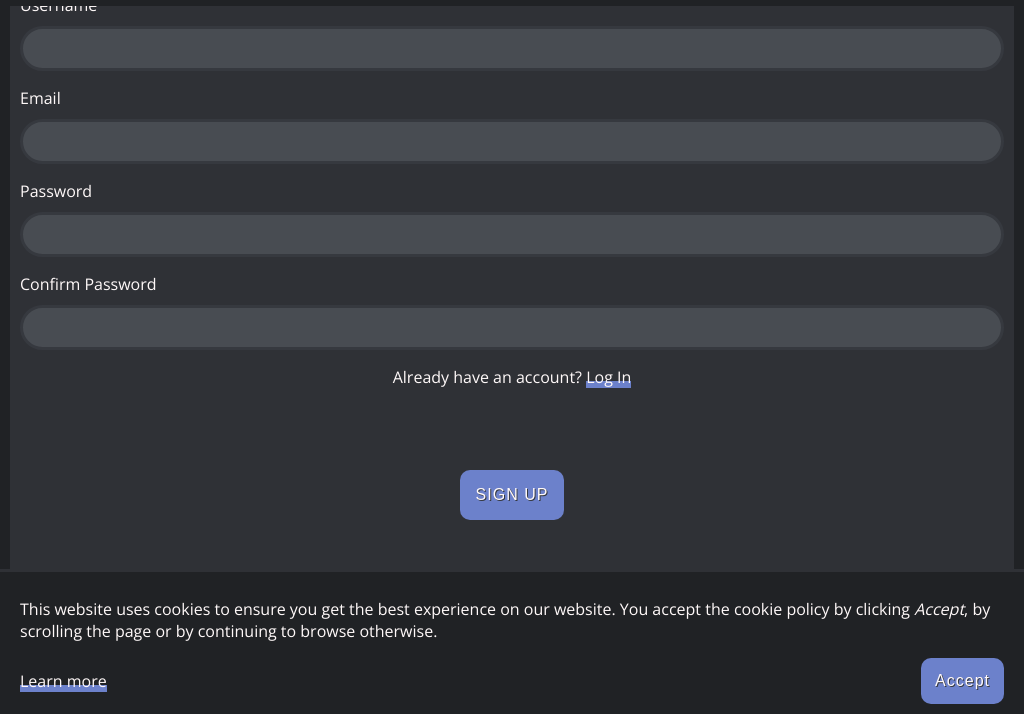
Test: /signup › requires username/email/password/confirm password/recaptcha
The image size is (1024, 714).
(page scrolled)
Click the button "Sign Up": (513, 495) [460,470,565,520]
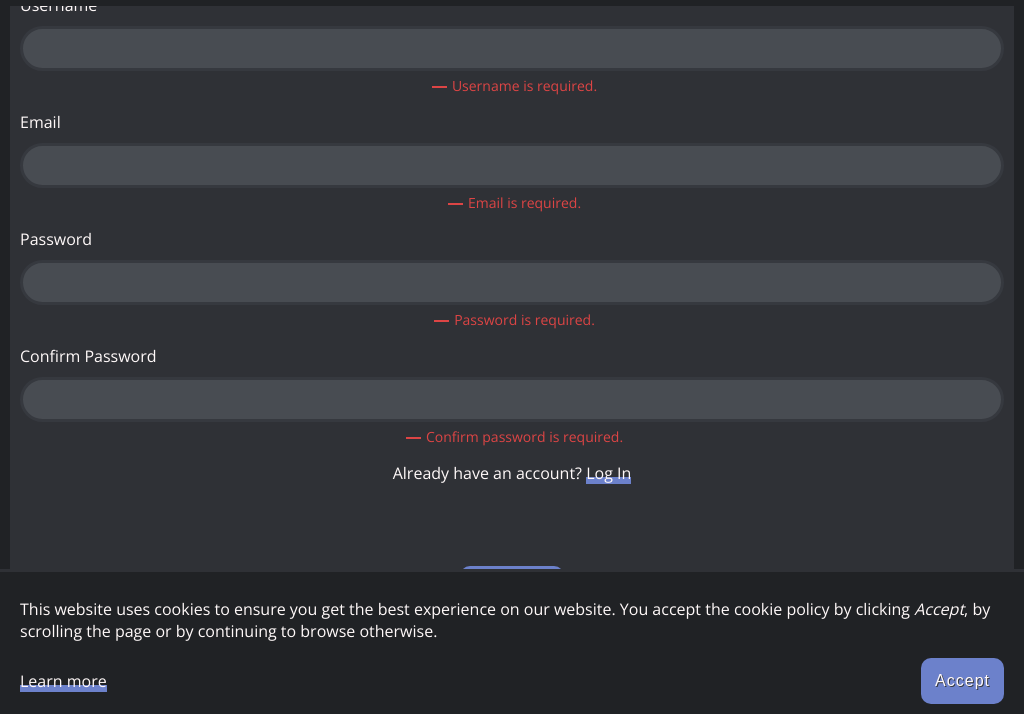
Check: the text with test id "form-error" shows "Username is required", box [452,76,597,95]
Check: the text with test id "form-error" shows "Email is required", box [468,193,581,212]
Check: the text with test id "form-error" shows "Password is required", box [454,310,595,329]
